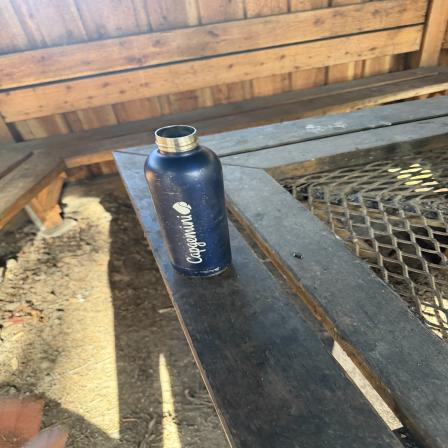blue_bottle: (146, 125, 237, 276)
